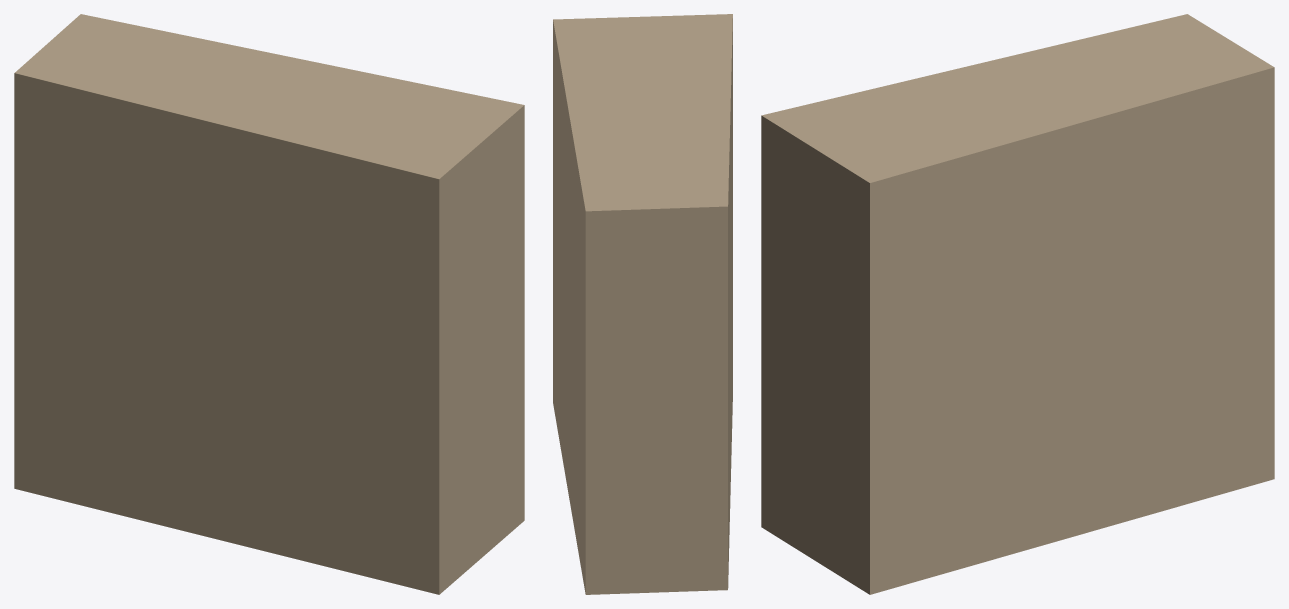
The model's file is bld_99007827.dae.
The picture shows the model from 3 angles, left to right: view 1: azimuth 30°, elevation 25°; view 2: azimuth 150°, elevation 25°; view 3: azimuth 270°, elevation 25°; orthographic projection. The views are drawn at different scales.
Visible parts, largest first — view 1: The Beehive; view 2: The Beehive; view 3: The Beehive.
Part boxes in pixels (<box>): The Beehive: <box>14,14,524,594</box>; The Beehive: <box>553,14,732,594</box>; The Beehive: <box>761,14,1274,594</box>.
Bounding box in the file's own units: 7.05 × 9.04 × 8.
